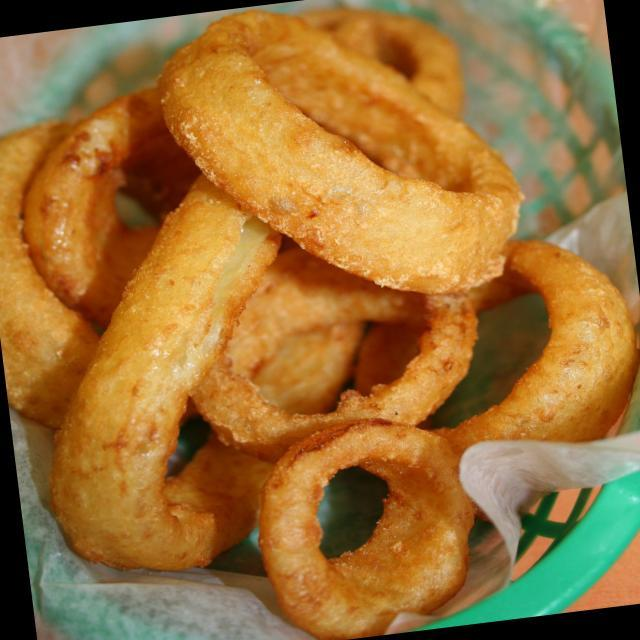ONIONS: (41, 58, 508, 588)
